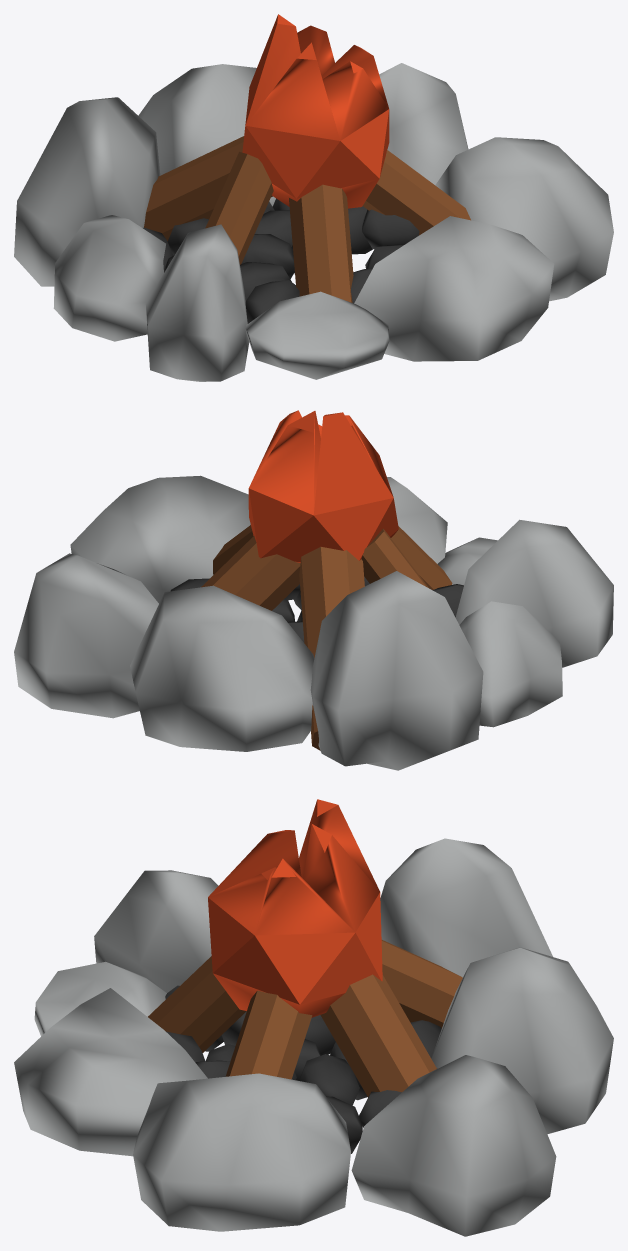
The model's file is fire-pit.gltf.
3 views of the same model, one above another, from view 1: azimuth 30°, elevation 25°; view 2: azimuth 150°, elevation 25°; view 3: azimuth 270°, elevation 25° (orthographic). The views are drawn at different scales.
Parts seen in each view (by area): view 1: body; view 2: body; view 3: body.
Part boxes in pixels (x1,y1,x2,y2): body: (14, 14, 613, 381); body: (14, 410, 613, 770); body: (14, 799, 613, 1236).
Size of the model in its own units: 1.45 by 0.7788 by 1.37.
